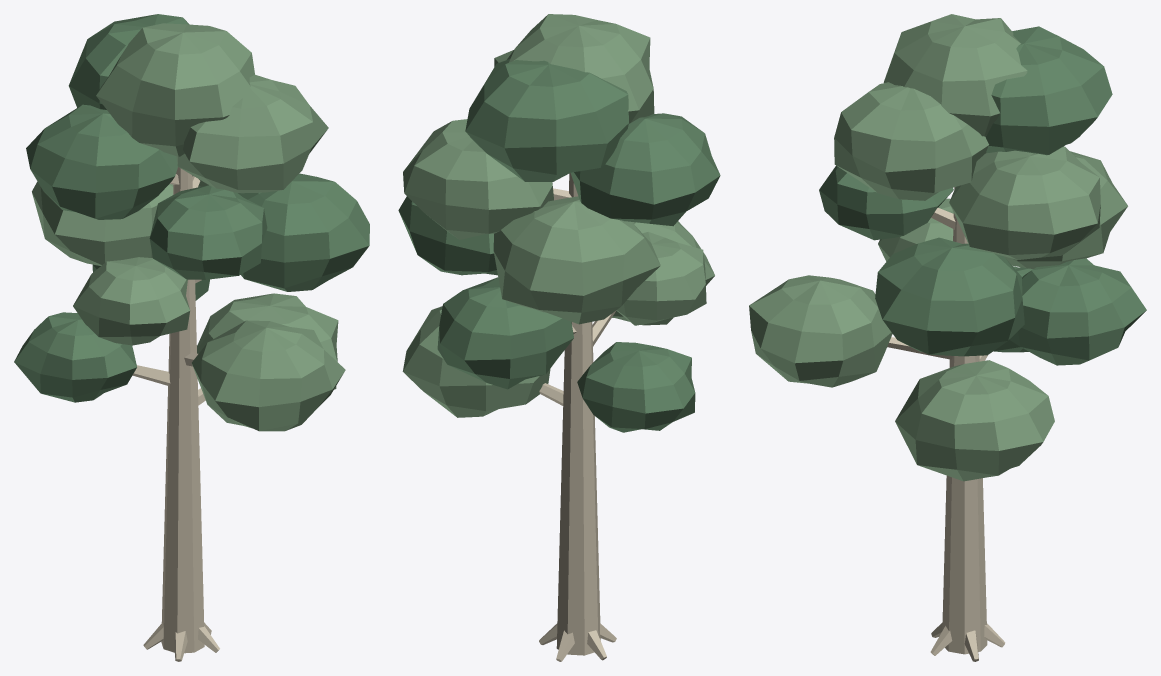
File: tree_eucalyptus_huge.glb
3 renders of one model, left to right at view 1: azimuth 30°, elevation 25°; view 2: azimuth 150°, elevation 25°; view 3: azimuth 270°, elevation 25°, orthographic.
Parts seen in each view (by area): view 1: tree_eucalyptus_huge; view 2: tree_eucalyptus_huge; view 3: tree_eucalyptus_huge.
Boxes of the visible parts, box(x1,y1,x2,y2) form: tree_eucalyptus_huge: box(14, 14, 369, 661); tree_eucalyptus_huge: box(398, 14, 720, 661); tree_eucalyptus_huge: box(749, 14, 1146, 661).
Size of the model in its own units: 17.94 by 34.24 by 19.89.
